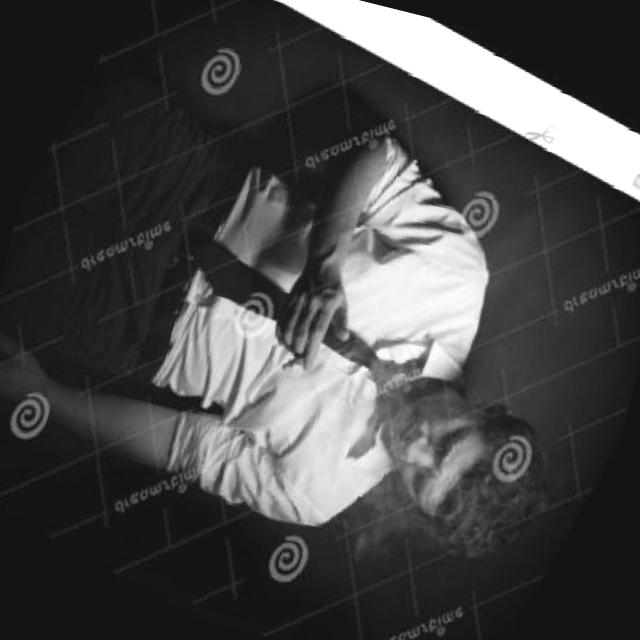smoke: (280, 344, 308, 375)
